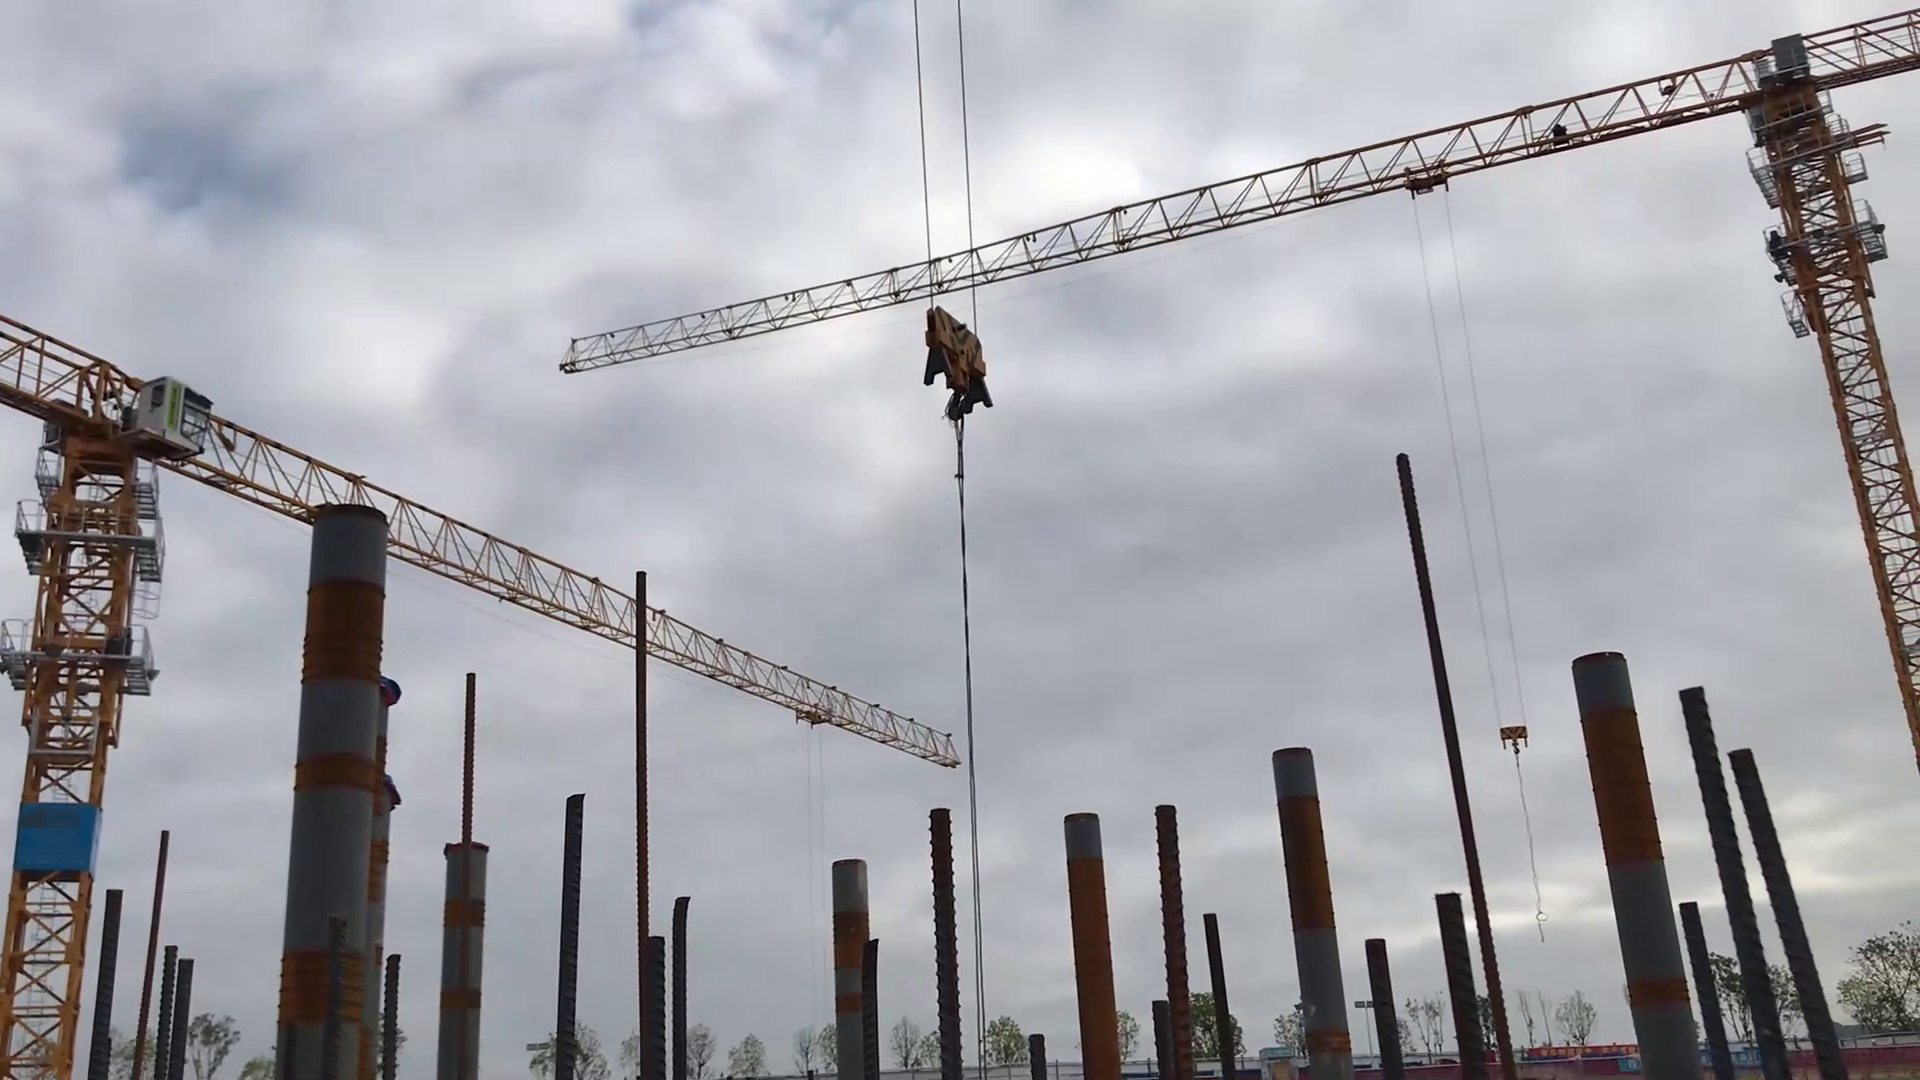hook: (911, 301, 998, 426)
